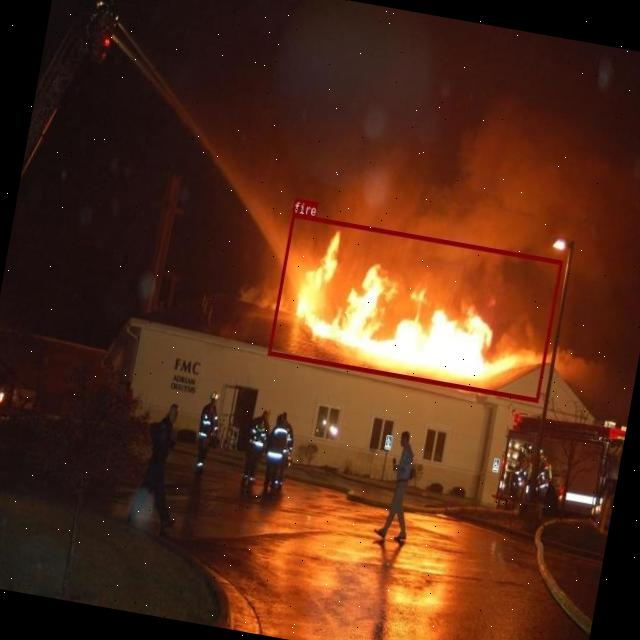fire: (267, 213, 562, 401)
